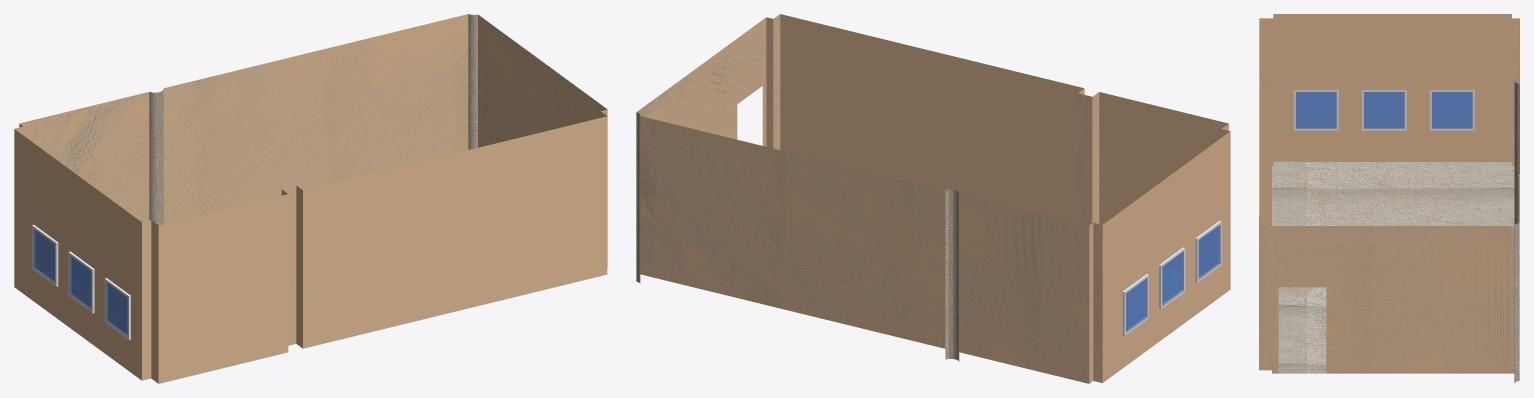
The model's file is AUL009.obj.
3 renders of one model, left to right at view 1: azimuth 30°, elevation 25°; view 2: azimuth 150°, elevation 25°; view 3: azimuth 270°, elevation 25°, orthographic. The views are drawn at different scales.
Visible parts, largest first — view 1: Mesh10 AUL009 Model, Mesh1 Group1 AUL009 Model, Mesh4 Group2 AUL009 Model, Mesh7 Group3 AUL009 Model; view 2: Mesh10 AUL009 Model, Mesh4 Group2 AUL009 Model, Mesh7 Group3 AUL009 Model, Mesh1 Group1 AUL009 Model; view 3: Mesh10 AUL009 Model, Mesh1 Group1 AUL009 Model, Mesh4 Group2 AUL009 Model, Mesh7 Group3 AUL009 Model.
Boxes of the visible parts, <box> form: Mesh10 AUL009 Model: <box>14,14,607,383</box>; Mesh1 Group1 AUL009 Model: <box>32,225,58,286</box>; Mesh4 Group2 AUL009 Model: <box>68,251,94,313</box>; Mesh7 Group3 AUL009 Model: <box>104,278,130,339</box>; Mesh10 AUL009 Model: <box>636,14,1230,383</box>; Mesh4 Group2 AUL009 Model: <box>1159,247,1185,309</box>; Mesh7 Group3 AUL009 Model: <box>1195,220,1221,282</box>; Mesh1 Group1 AUL009 Model: <box>1122,274,1148,335</box>; Mesh10 AUL009 Model: <box>1259,14,1519,382</box>; Mesh1 Group1 AUL009 Model: <box>1429,90,1474,130</box>; Mesh4 Group2 AUL009 Model: <box>1361,90,1406,130</box>; Mesh7 Group3 AUL009 Model: <box>1293,90,1338,130</box>.
Bounding box in the file's own units: 11.12 × 3.85 × 5.75.
Materials: 6 (2 with a texture image).
